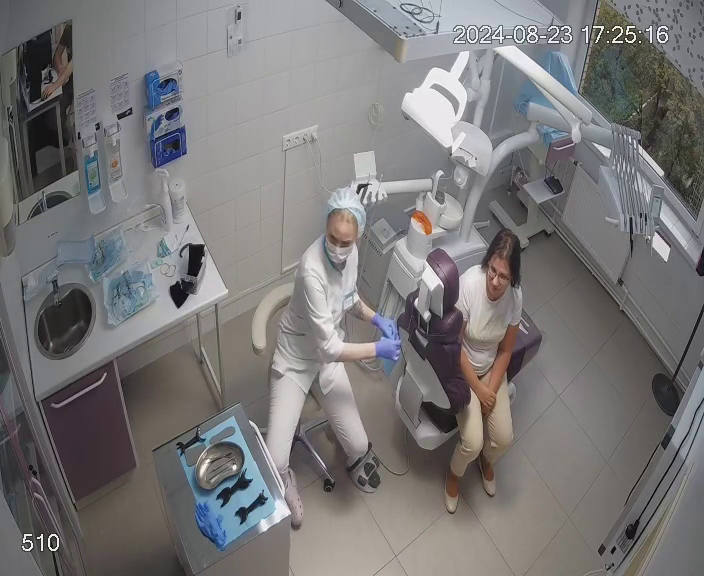Empty: (393, 226, 544, 511)
